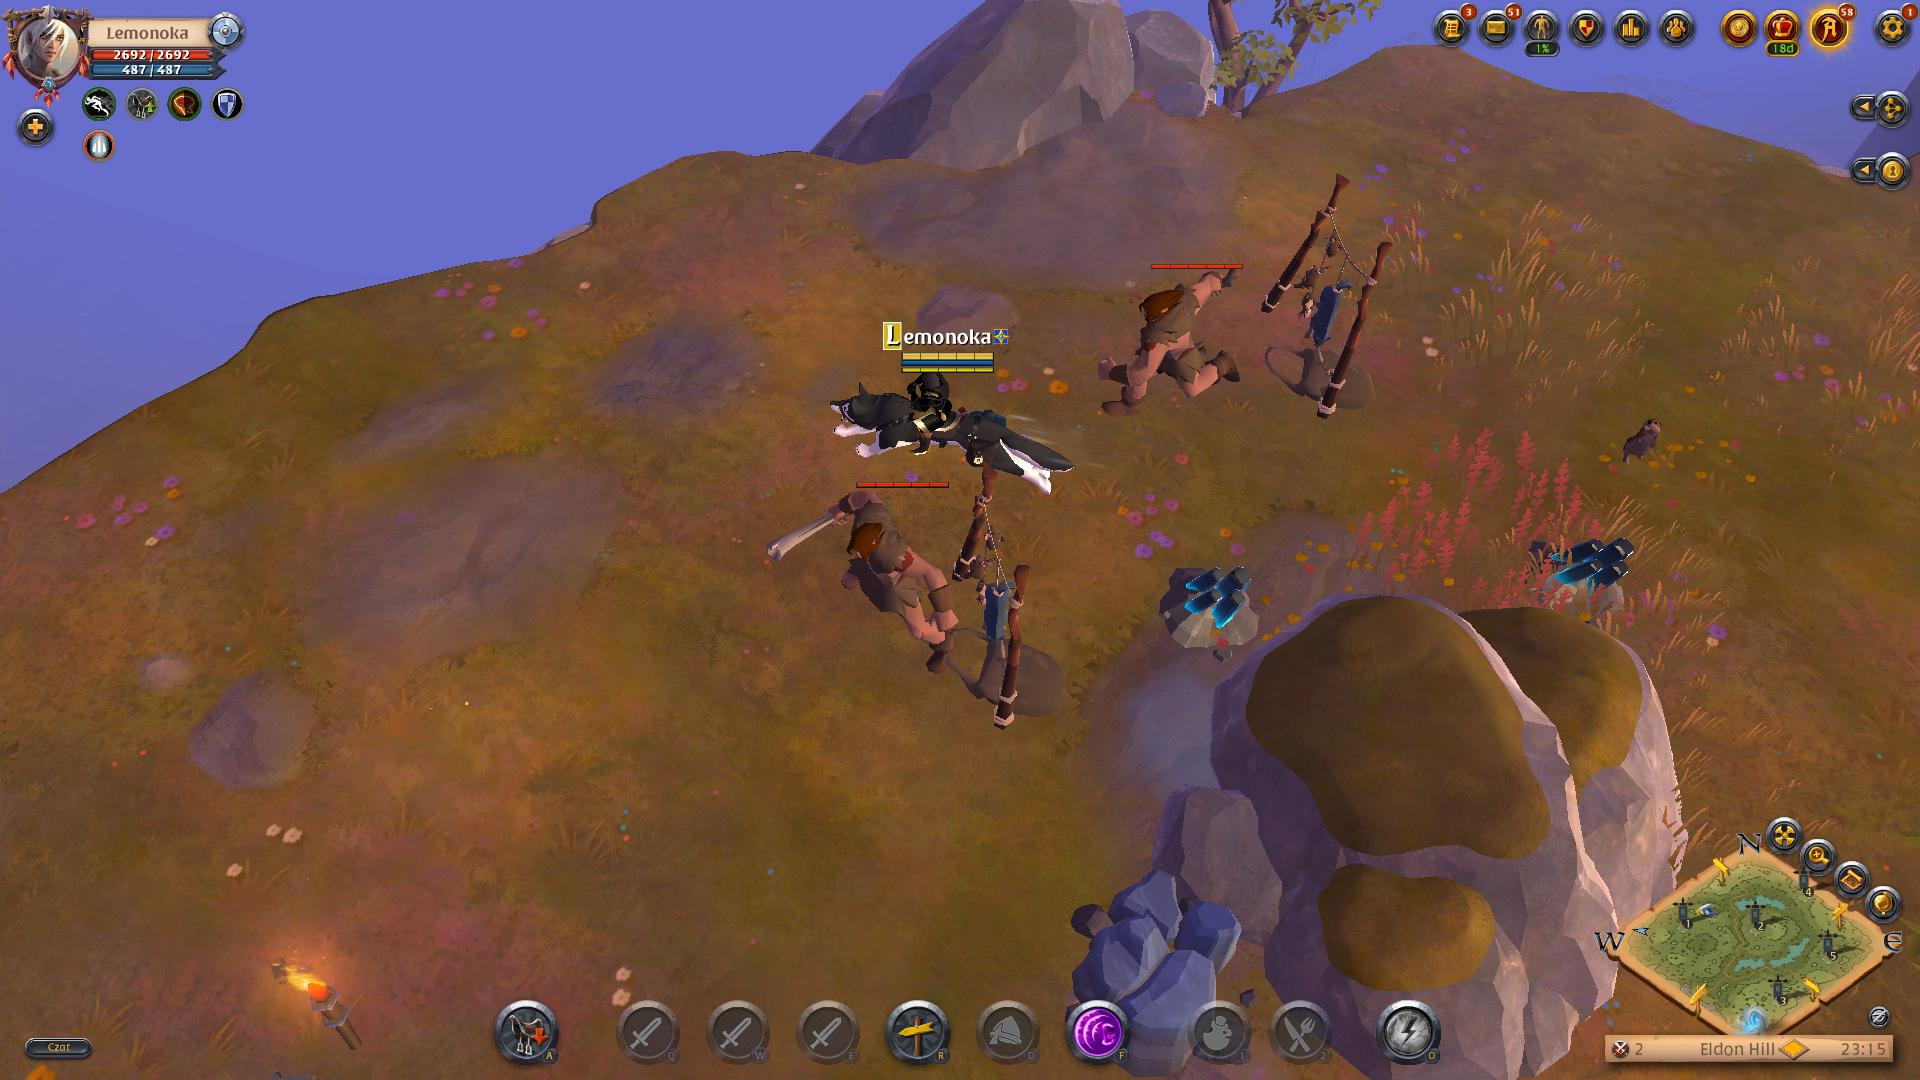ore tier 4: (1156, 555, 1263, 658), (1535, 524, 1638, 628)
rock tier 4: (1068, 868, 1257, 1080)
